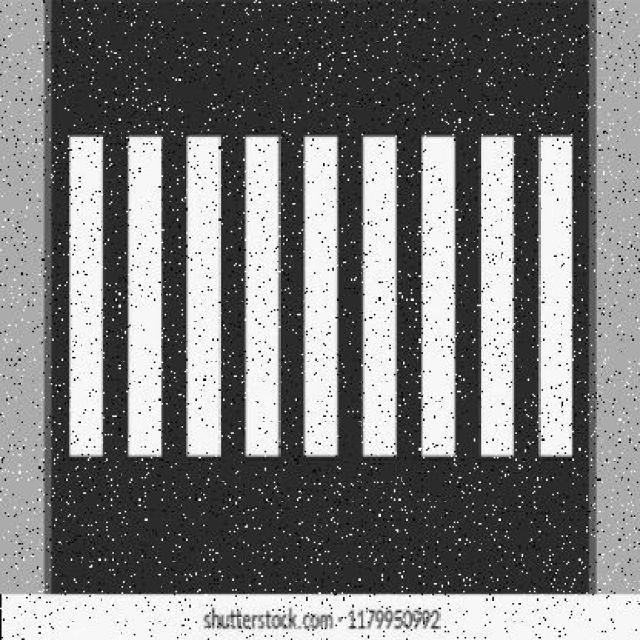intact_crosswalk: (61, 132, 578, 460)
